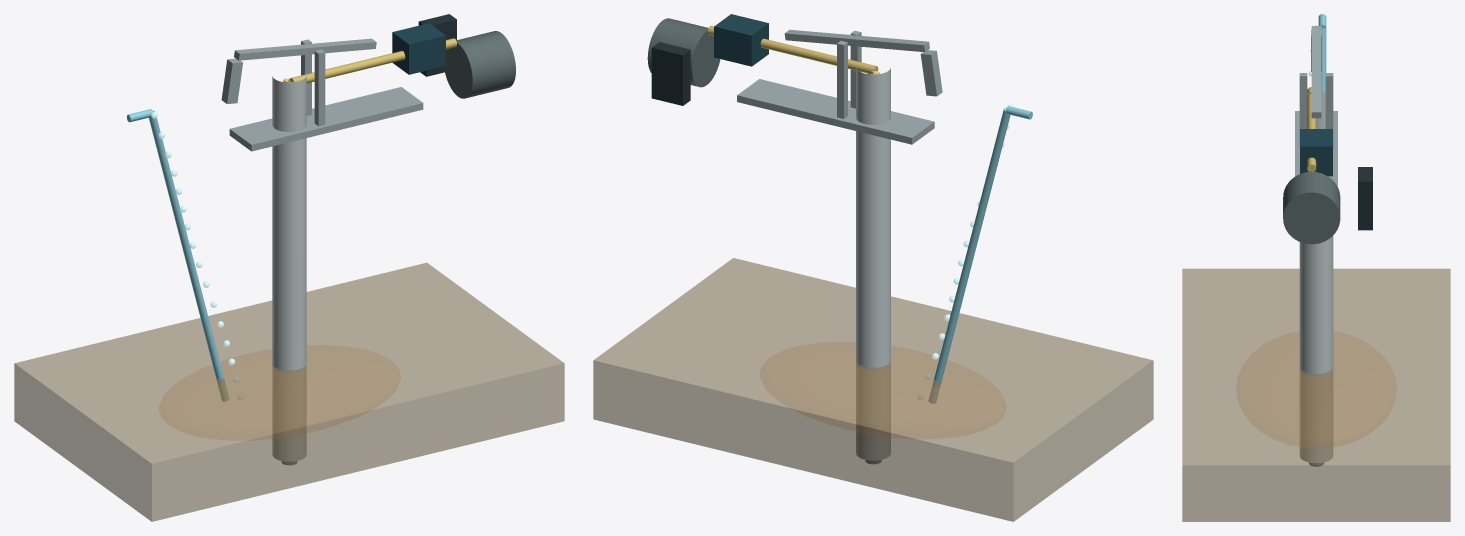
Rendered from well.glb.
3 renders of one model, left to right at view 1: azimuth 30°, elevation 25°; view 2: azimuth 150°, elevation 25°; view 3: azimuth 270°, elevation 25°, orthographic. The views are drawn at different scales.
Visible parts, largest first — view 1: Reservoir, Well, SurfaceBase, ProductionReceiver, SteamInjectorPipe, Motor, WalkingBeam, SurfaceProductionLine, SurfaceUnitPostB, HorseHead, VFD; view 2: Reservoir, Well, SurfaceBase, SteamInjectorPipe, ProductionReceiver, Motor, VFD, WalkingBeam, SurfaceProductionLine, SurfaceUnitPostA, HorseHead; view 3: Reservoir, Well, ProductionReceiver, Motor, WalkingBeam, VFD, SurfaceBase, SurfaceUnitPostA, SurfaceUnitPostB, SurfaceProductionLine, SteamInjectorPipe.
Part boxes in pixels (x1=…): Reservoir: x1=14, y1=262, x2=564, y2=521; Well: x1=272, y1=76, x2=306, y2=461; SurfaceBase: x1=229, y1=87, x2=423, y2=151; ProductionReceiver: x1=444, y1=31, x2=515, y2=98; SteamInjectorPipe: x1=149, y1=110, x2=228, y2=401; Motor: x1=392, y1=23, x2=445, y2=74; WalkingBeam: x1=234, y1=38, x2=376, y2=60; SurfaceProductionLine: x1=290, y1=38, x2=456, y2=83; SurfaceUnitPostB: x1=314, y1=49, x2=325, y2=126; HorseHead: x1=221, y1=58, x2=242, y2=103; VFD: x1=418, y1=14, x2=456, y2=76; Reservoir: x1=593, y1=258, x2=1153, y2=521; Well: x1=856, y1=68, x2=890, y2=460; SurfaceBase: x1=737, y1=79, x2=934, y2=144; SteamInjectorPipe: x1=928, y1=107, x2=1010, y2=403; ProductionReceiver: x1=647, y1=18, x2=720, y2=87; Motor: x1=714, y1=14, x2=768, y2=66; VFD: x1=651, y1=42, x2=690, y2=105; WalkingBeam: x1=784, y1=29, x2=929, y2=52; SurfaceProductionLine: x1=707, y1=25, x2=878, y2=73; SurfaceUnitPostA: x1=837, y1=40, x2=847, y2=118; HorseHead: x1=920, y1=50, x2=942, y2=96; Reservoir: x1=1182, y1=268, x2=1450, y2=521; Well: x1=1299, y1=92, x2=1333, y2=462; ProductionReceiver: x1=1283, y1=171, x2=1340, y2=244; Motor: x1=1300, y1=129, x2=1332, y2=176; WalkingBeam: x1=1311, y1=26, x2=1321, y2=118; VFD: x1=1358, y1=167, x2=1372, y2=230; SurfaceBase: x1=1295, y1=111, x2=1337, y2=186; SurfaceUnitPostA: x1=1325, y1=73, x2=1333, y2=146; SurfaceUnitPostB: x1=1299, y1=73, x2=1307, y2=146; SurfaceProductionLine: x1=1307, y1=87, x2=1316, y2=171; SteamInjectorPipe: x1=1321, y1=28, x2=1326, y2=92.
Size of the model in its own units: 7.86 by 7.64 by 4.5.
